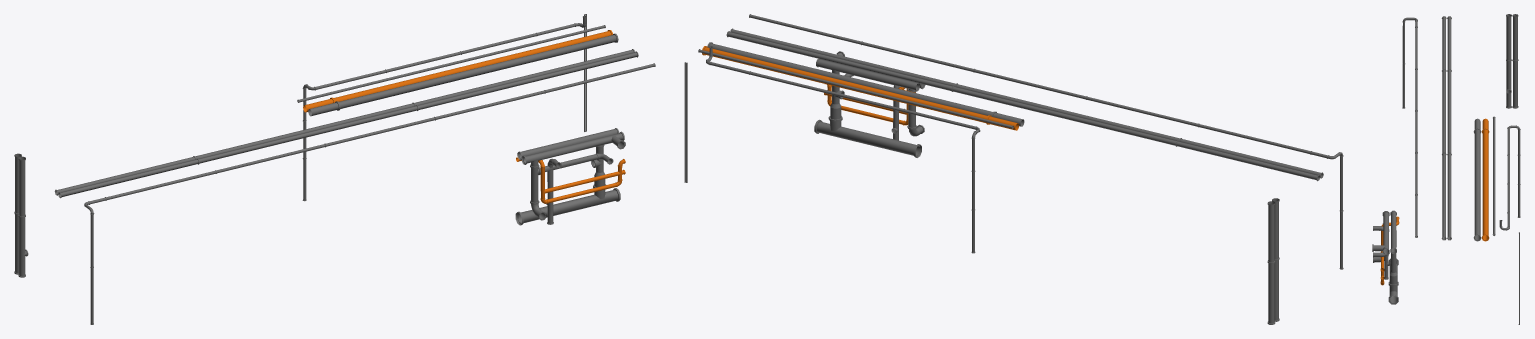
File: SM_H_Building_Tide_Corridor_06B_ATLAS.fbx
The picture shows the model from 3 angles, left to right: view 1: azimuth 30°, elevation 25°; view 2: azimuth 150°, elevation 25°; view 3: azimuth 270°, elevation 25°; orthographic projection. The views are drawn at different scales.
Visible parts, largest first — view 1: SM_H_Building_Tide_Corridor_06B_ATLAS; view 2: SM_H_Building_Tide_Corridor_06B_ATLAS; view 3: SM_H_Building_Tide_Corridor_06B_ATLAS.
Part boxes in pixels (x1,y1,x2,y2): SM_H_Building_Tide_Corridor_06B_ATLAS: (14,14,655,324); SM_H_Building_Tide_Corridor_06B_ATLAS: (684,14,1343,324); SM_H_Building_Tide_Corridor_06B_ATLAS: (1372,14,1520,324).
Bounding box in the file's own units: 5261 × 1494 × 1108.
